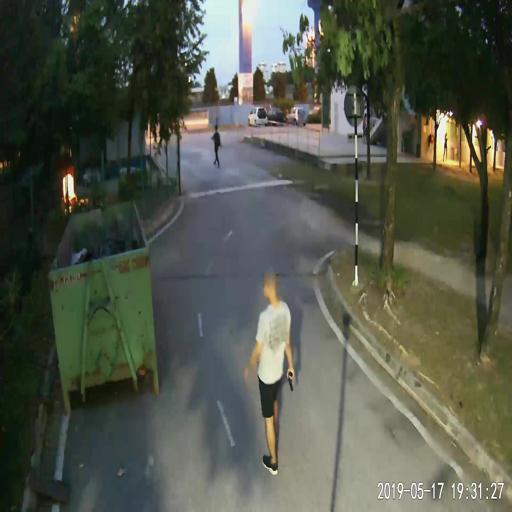Handgun: (285, 365, 293, 391)
